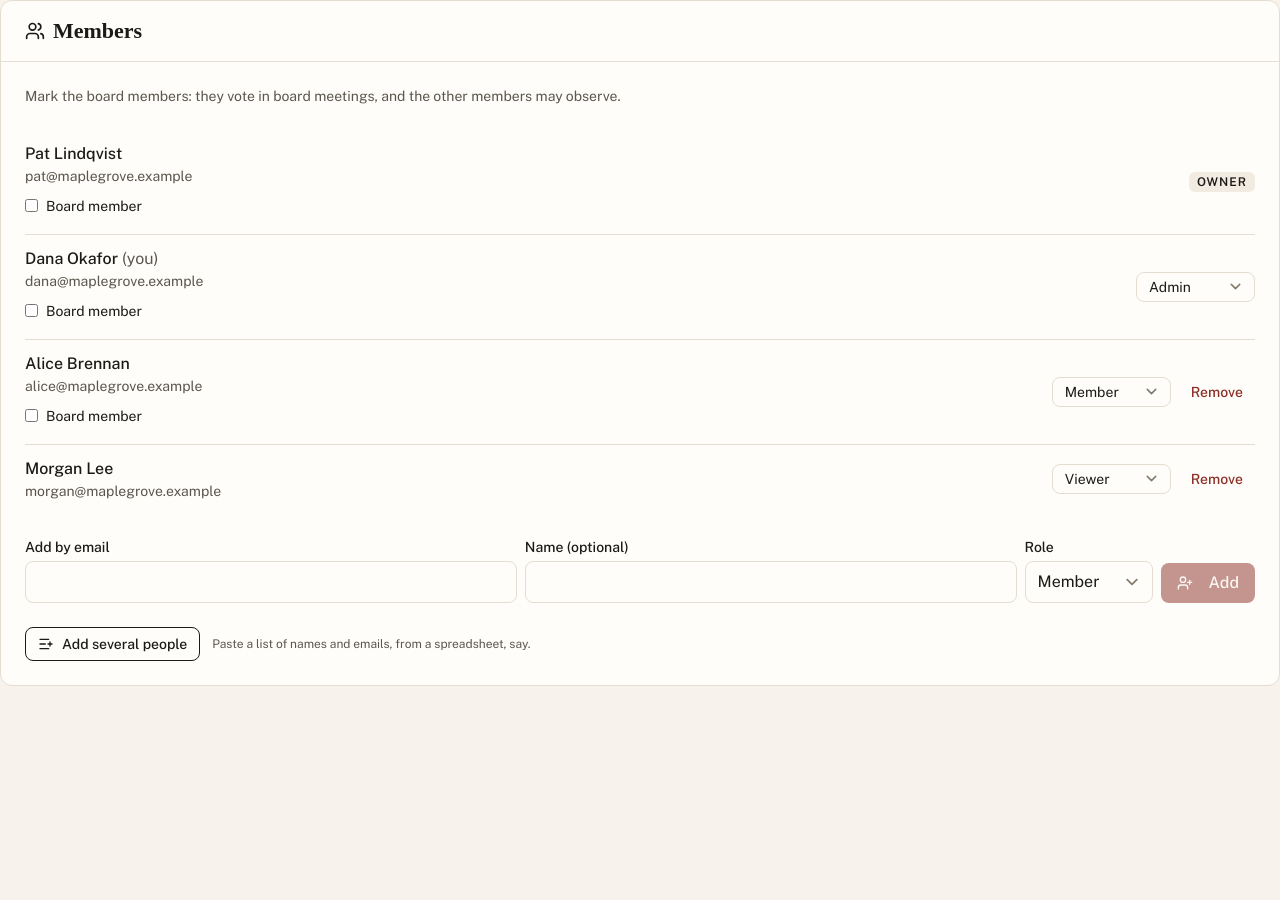
MembersCard › the board › lets an admin mark the board members, only members and above
Expected: the text "Alice Brennan" is shown, [25,354,130,372]
Expected: the text "Mark the board members: they vote in board meetings, and the other members may observe." is shown, [25,88,621,104]
What coordinates should you click on to do the following:
click the checkbox named "Board member: Alice Brennan"
I would click on:
 (32, 416)
Its box is [25,409,38,422].
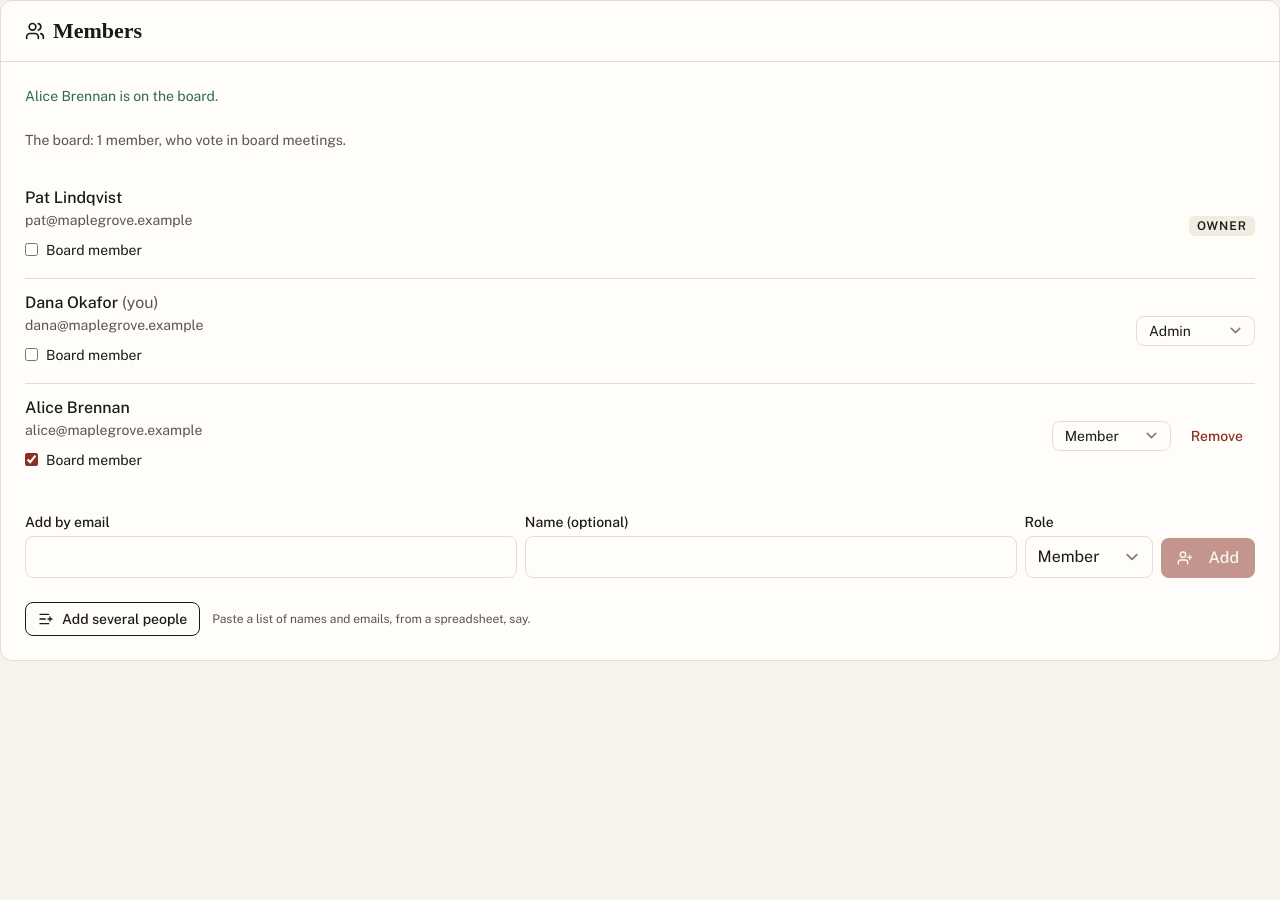
Expected: the checkbox named "Board member: Alice Brennan" is checked, [25,453,38,466]
Expected: the text "Alice Brennan is on the board." is shown, [25,88,218,104]
Expected: the text "The board: 1 member, who vote in board meetings." is shown, [25,132,346,148]
